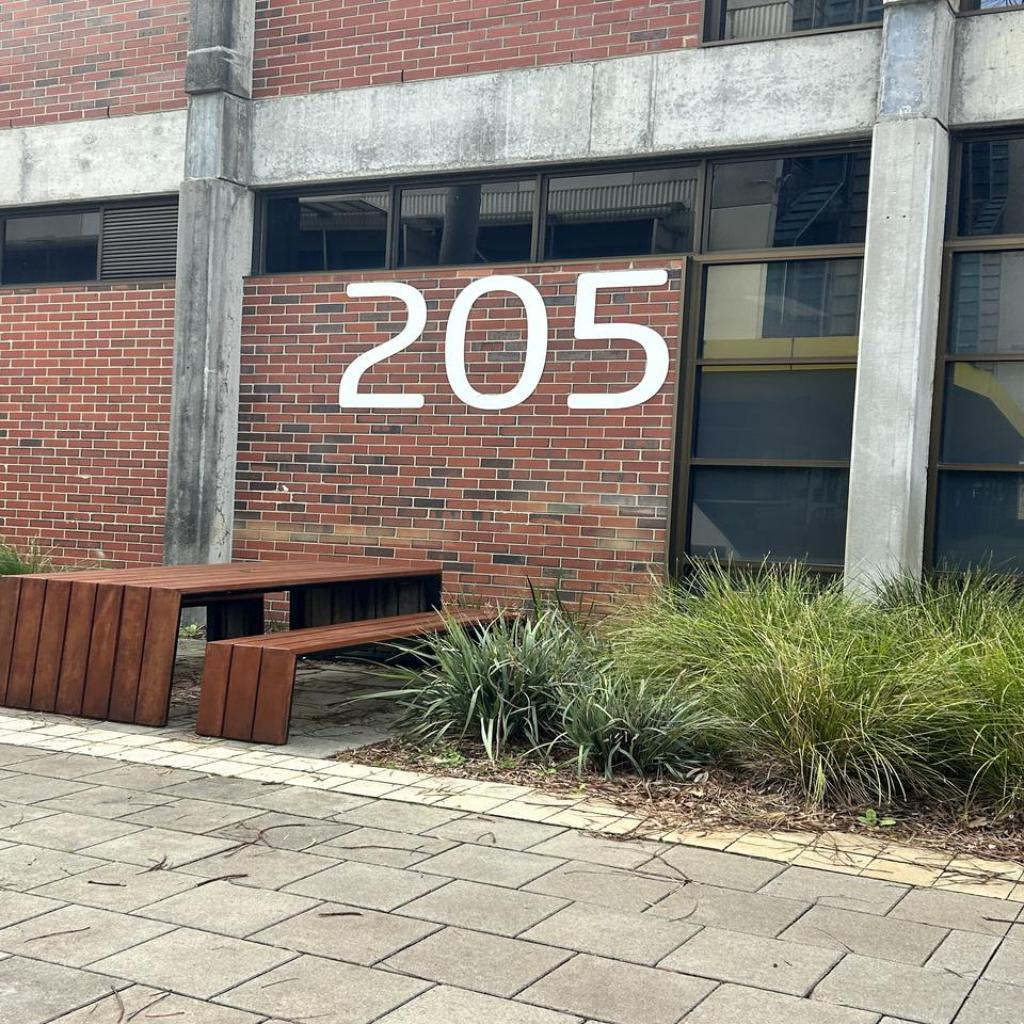BuildingCodes: (334, 262, 676, 412)
